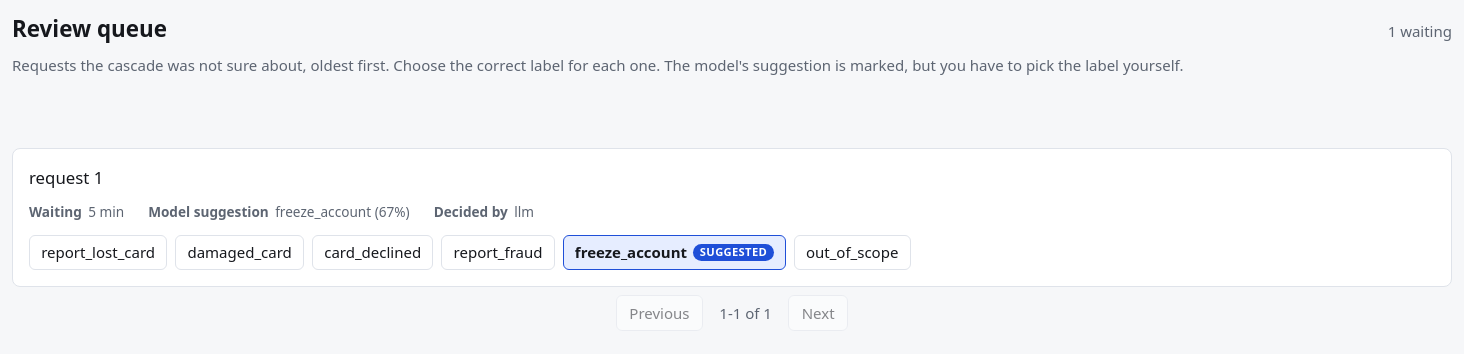
Scenario: when a decision fails › never shows the raw API message
The width and height of the screenshot is (1464, 354).
Check: the list item "request 1" is shown, box [12,148,1452,287]
Click the button "report_fraud".
click(498, 253)  # box [441,235,555,270]
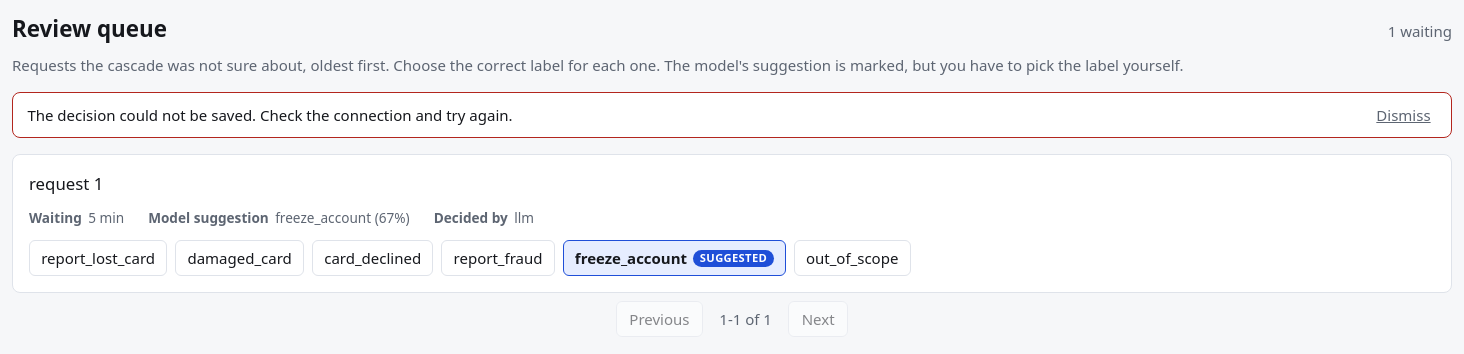
Check: the text "could not be saved" is shown, box [27,105,513,125]
